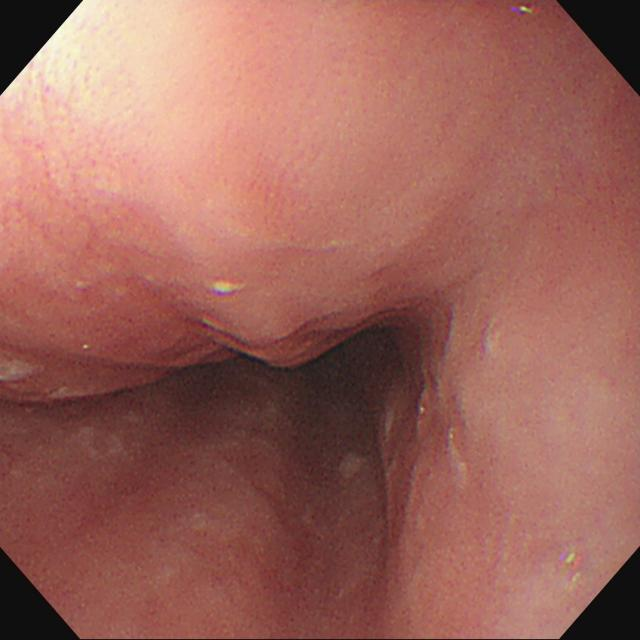E: (198, 313, 431, 490)
